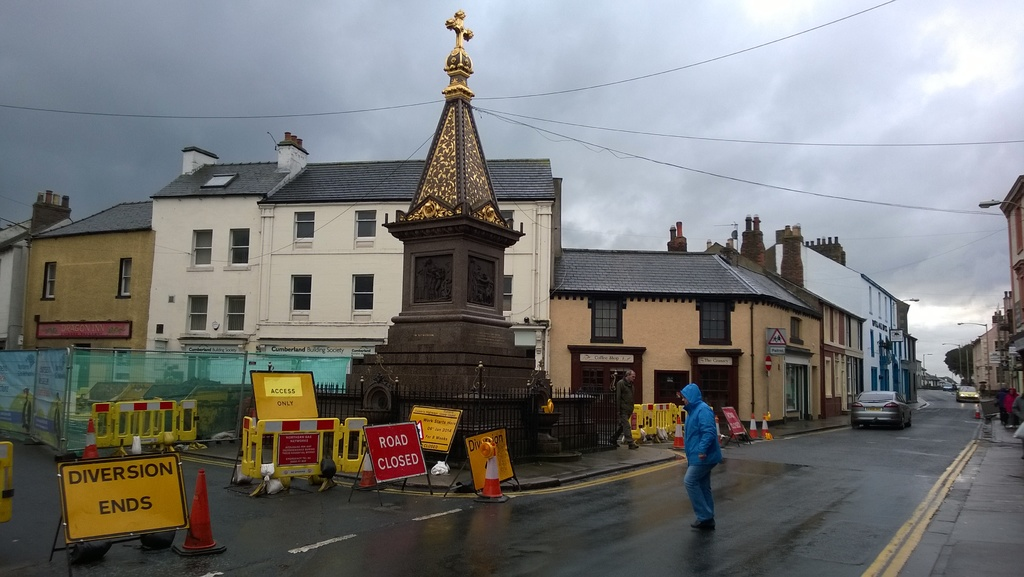diversion_ends: (53, 454, 190, 541)
road_closed: (364, 424, 434, 478)
